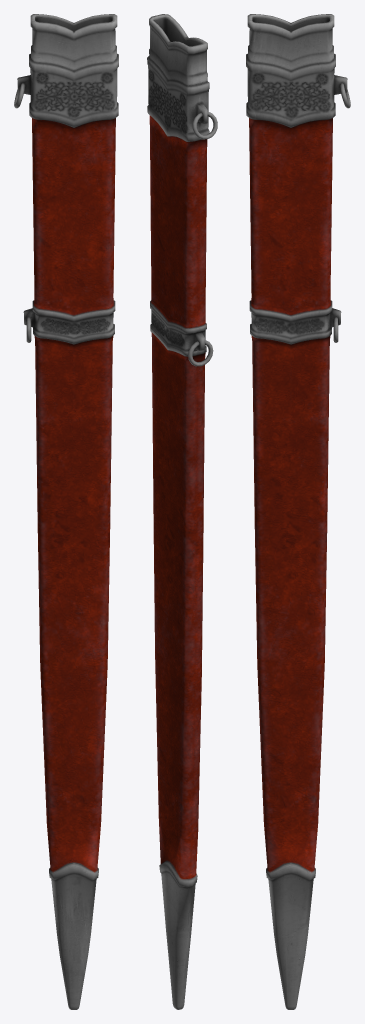
File: SM_scabbards_02.fbx
3 renders of one model, left to right at view 1: azimuth 90°, elevation 25°; view 2: azimuth 210°, elevation 25°; view 3: azimuth 270°, elevation 25°, orthographic.
Parts seen in each view (by area): view 1: SM_scabbards_02_LOD0; view 2: SM_scabbards_02_LOD0; view 3: SM_scabbards_02_LOD0.
Boxes of the visible parts, x1,y1,x2,y2 form: SM_scabbards_02_LOD0: (14,14,118,1009); SM_scabbards_02_LOD0: (147,14,217,1009); SM_scabbards_02_LOD0: (246,14,350,1009).
Size of the model in its own units: 3.09 by 11.17 by 117.
Materials: 1 (1 with a texture image).
